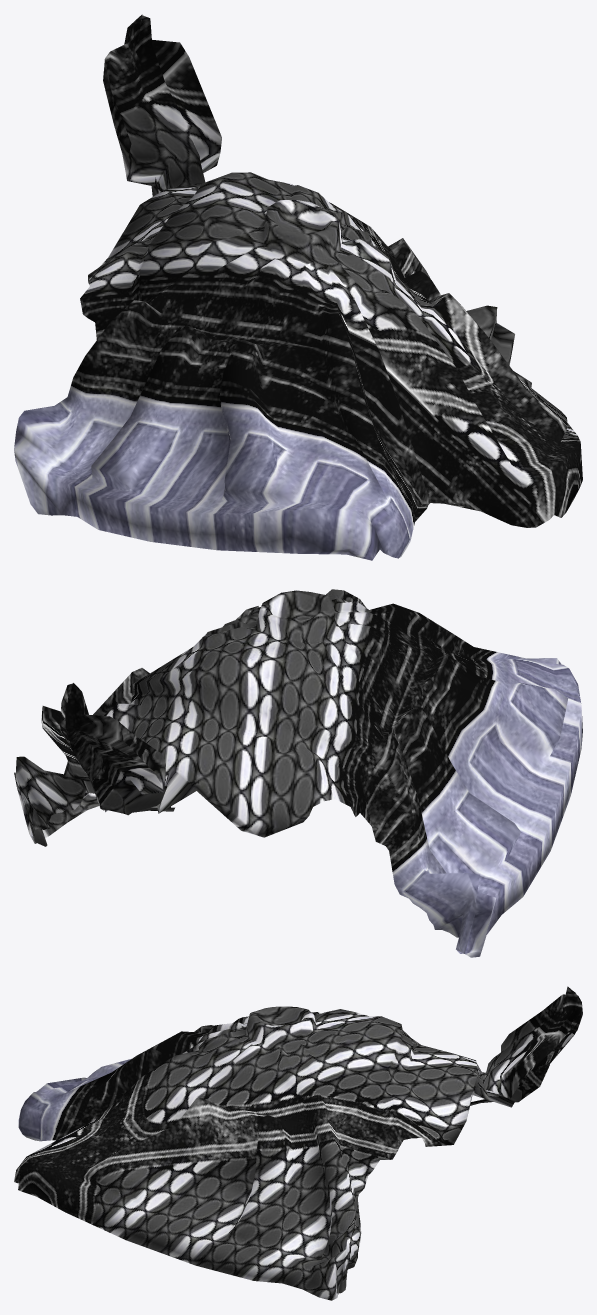
The model's file is hel_u.glb.
3 views of the same model, one above another, from view 1: azimuth 30°, elevation 25°; view 2: azimuth 150°, elevation 25°; view 3: azimuth 270°, elevation 25° (orthographic). The views are drawn at different scales.
Visible parts, largest first — view 1: HELMET.003; view 2: HELMET.003; view 3: HELMET.003.
Boxes of the visible parts, x1=… form: HELMET.003: x1=14, y1=14, x2=582, y2=560; HELMET.003: x1=14, y1=589, x2=582, y2=957; HELMET.003: x1=14, y1=986, x2=582, y2=1300.
Bounding box in the file's own units: 2.59 × 1.63 × 3.45.
Materials: 1 (1 with a texture image).
